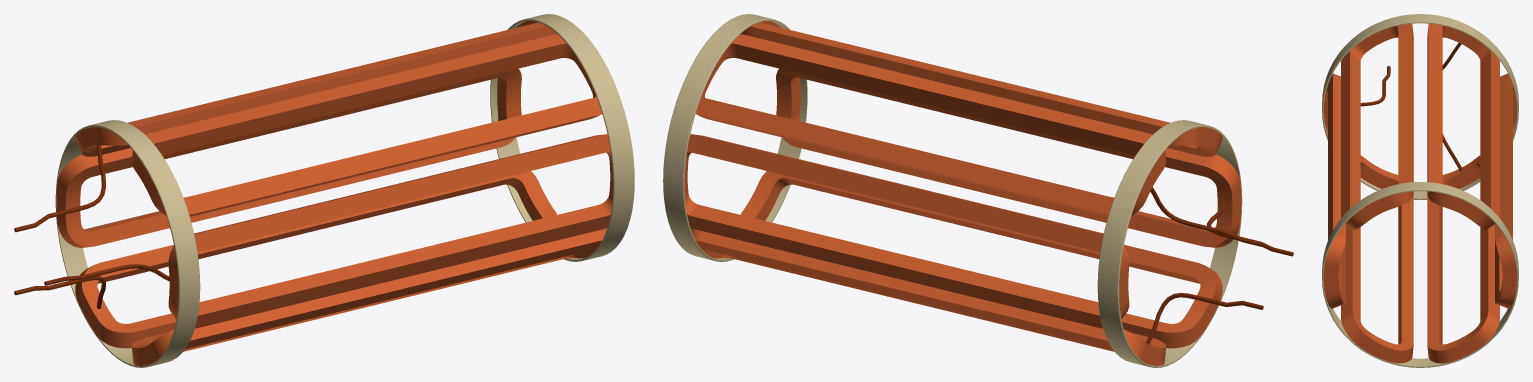
The model's file is generator_rotor_coils.obj.
3 renders of one model, left to right at view 1: azimuth 30°, elevation 25°; view 2: azimuth 150°, elevation 25°; view 3: azimuth 270°, elevation 25°, orthographic. The views are drawn at different scales.
Visible parts, largest first — view 1: generator_rotor_coils; view 2: generator_rotor_coils; view 3: generator_rotor_coils.
Boxes of the visible parts, bbox=[...] form: generator_rotor_coils: bbox=[14, 14, 634, 367]; generator_rotor_coils: bbox=[663, 14, 1293, 367]; generator_rotor_coils: bbox=[1322, 14, 1518, 367].
Size of the model in its own units: 2.24 by 0.88 by 0.88.
